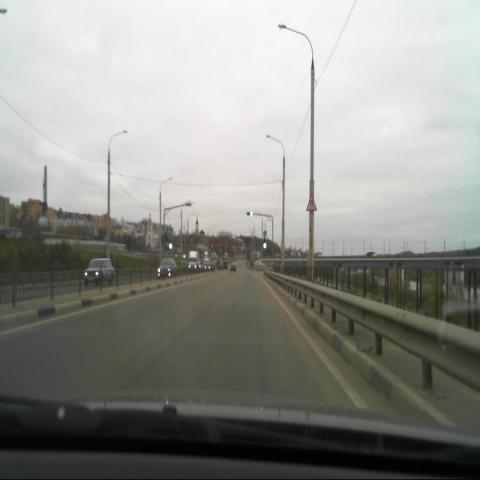1_20_2: (306, 193, 317, 213)
2_1: (279, 242, 287, 253)
